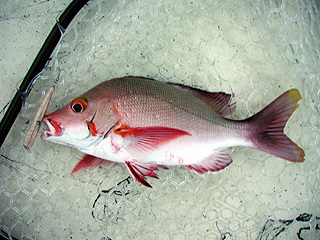fish: (42, 74, 307, 189)
